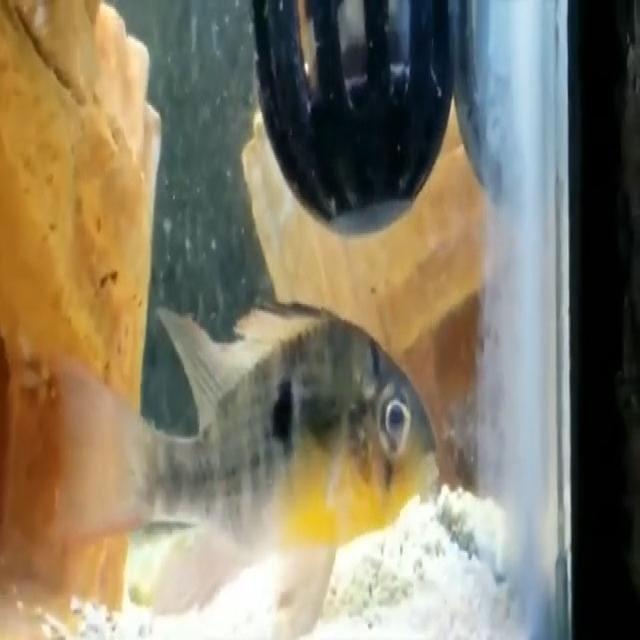fish: (84, 288, 442, 634)
